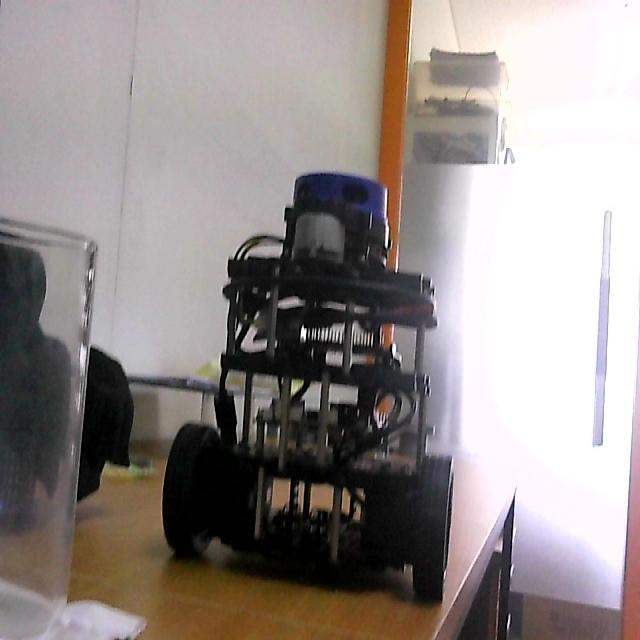turtle: (160, 170, 458, 608)
